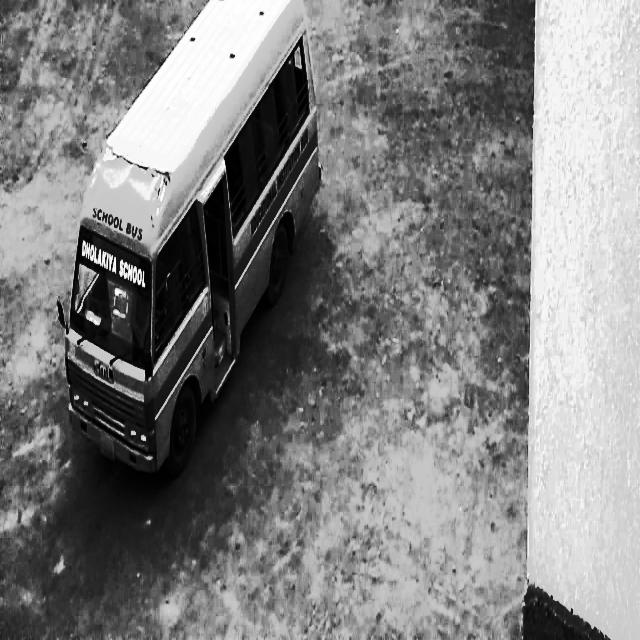Bus: (57, 10, 331, 496)
